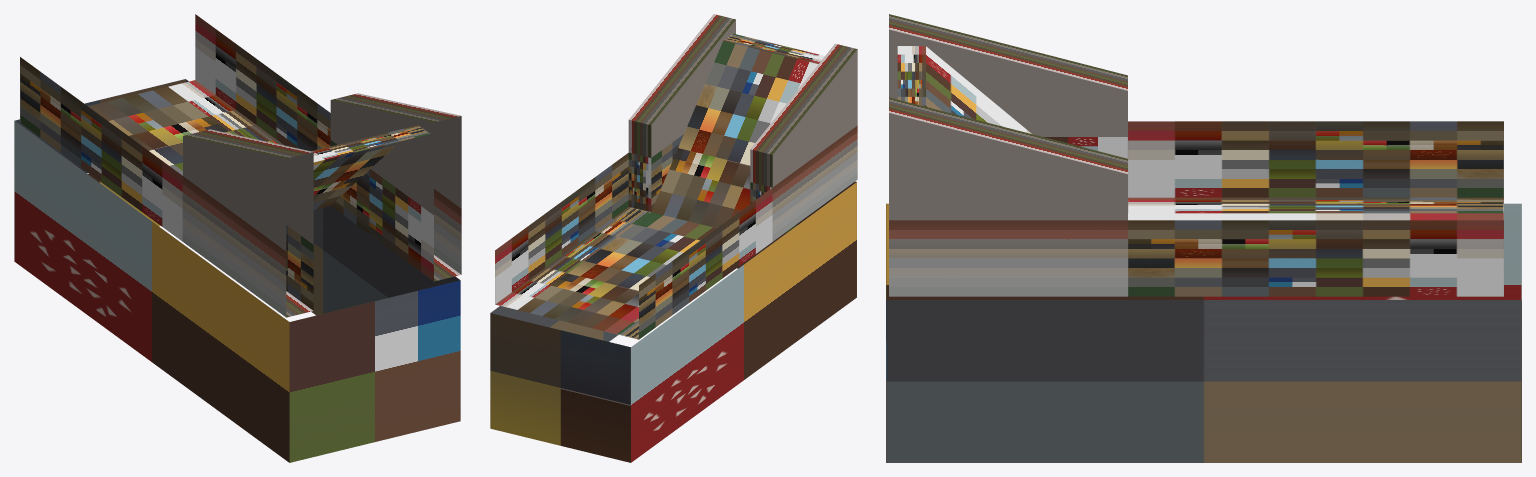
File: Dock_2_Phys.fbx
The picture shows the model from 3 angles, left to right: view 1: azimuth 30°, elevation 25°; view 2: azimuth 150°, elevation 25°; view 3: azimuth 270°, elevation 25°; orthographic projection. The views are drawn at different scales.
Parts seen in each view (by area): view 1: polySurface10633; view 2: polySurface10633; view 3: polySurface10633.
Boxes of the visible parts, box(x1,y1,x2,y2) form: polySurface10633: box(14, 14, 461, 462); polySurface10633: box(490, 14, 857, 462); polySurface10633: box(886, 14, 1521, 462).
Bounding box in the file's own units: 388 × 643 × 1054.
